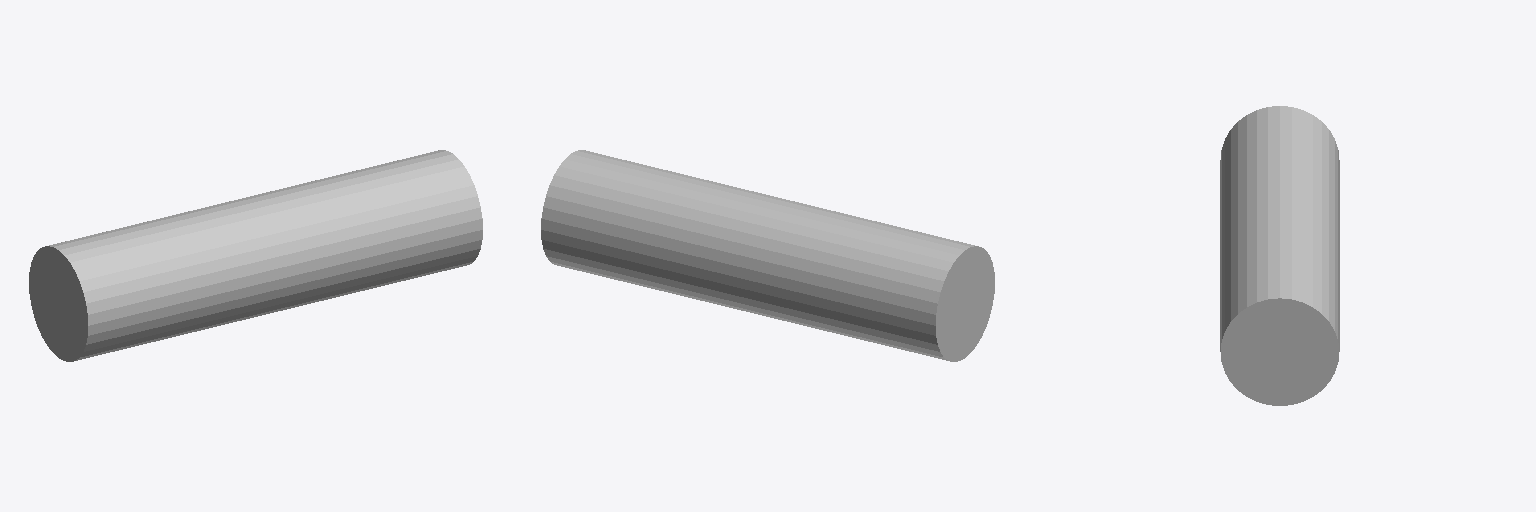
Rendered from ShockFL.OBJ.
3 renders of one model, left to right at view 1: azimuth 30°, elevation 25°; view 2: azimuth 150°, elevation 25°; view 3: azimuth 270°, elevation 25°, orthographic.
Parts seen in each view (by area): view 1: ShockFL; view 2: ShockFL; view 3: ShockFL.
Boxes of the visible parts, x1,y1,x2,y2 form: ShockFL: [29, 150, 482, 361]; ShockFL: [541, 150, 994, 361]; ShockFL: [1220, 106, 1339, 405].
Bounding box in the file's own units: 0.6177 × 0.1613 × 0.1613.